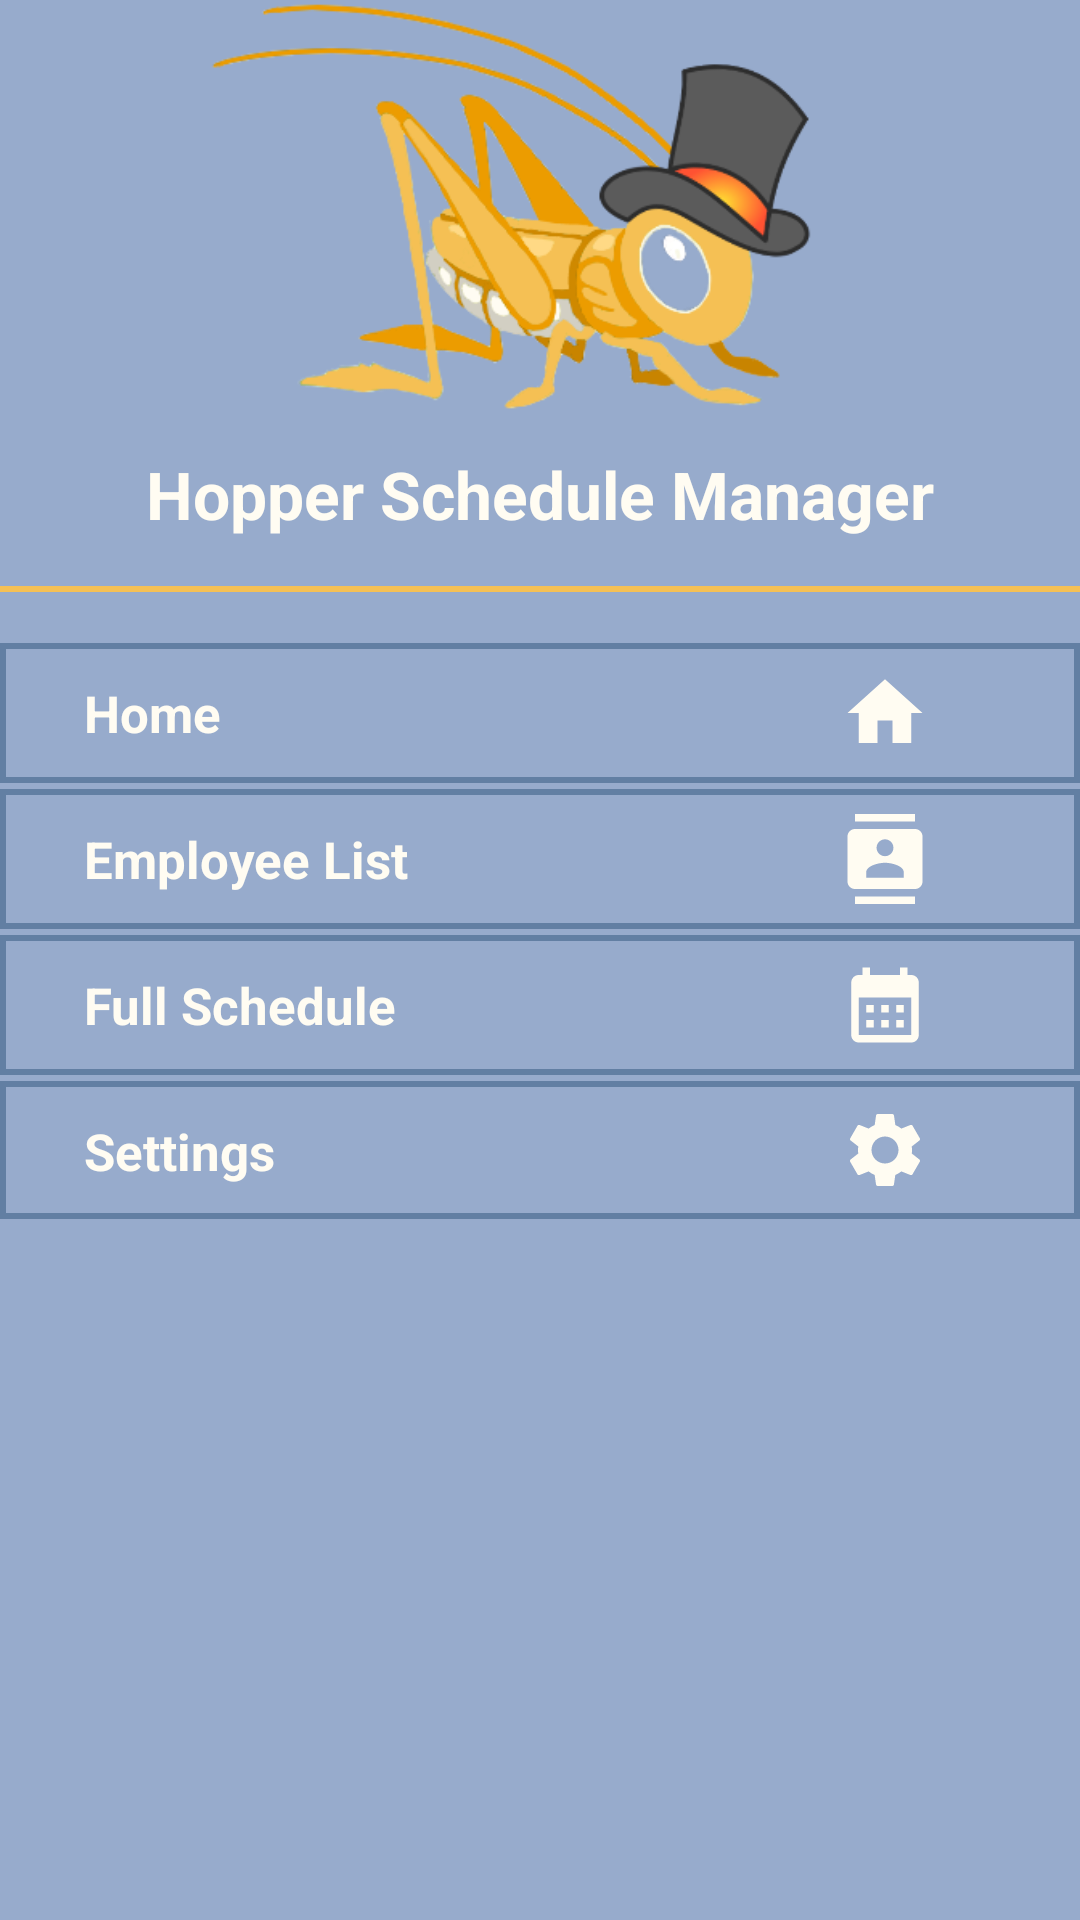

Locate icon controls on the screen. Image size 1080*1920, boxes as (x1, y1, x2, y2).
calender: (851, 967, 919, 1043)
